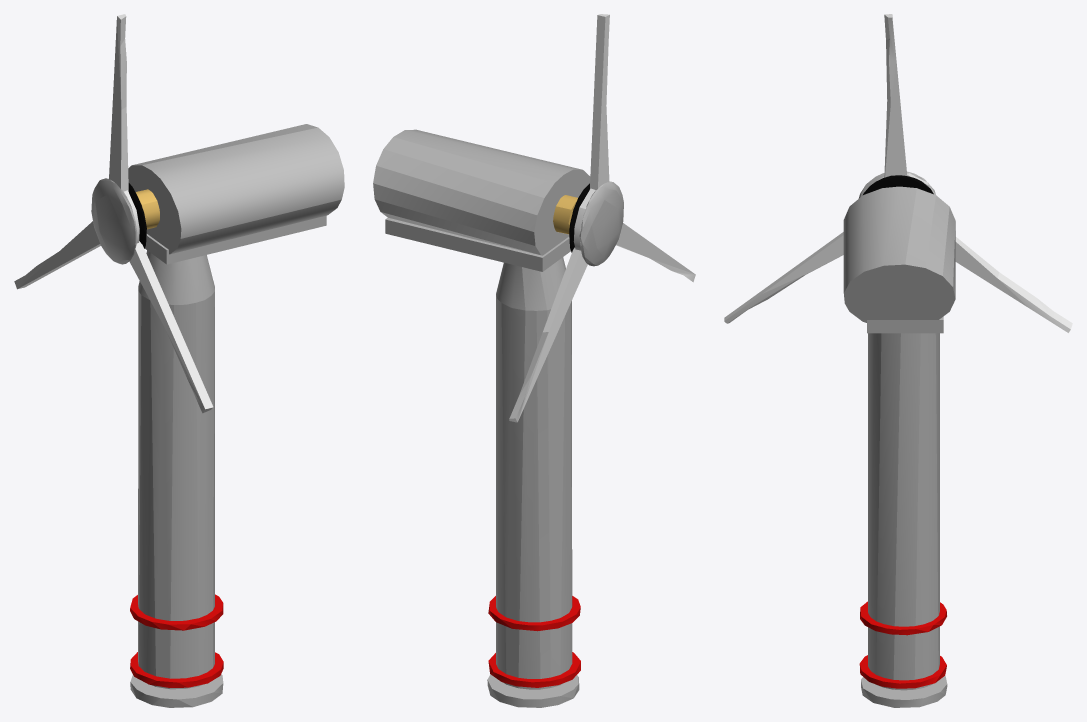
File: windmill.fbx
3 views of the same model, side by side, from view 1: azimuth 30°, elevation 25°; view 2: azimuth 150°, elevation 25°; view 3: azimuth 270°, elevation 25° (orthographic). The views are drawn at different scales.
Parts seen in each view (by area): view 1: Cube.002; view 2: Cube.002; view 3: Cube.002.
Part boxes in pixels (x1=…): Cube.002: x1=14, y1=14, x2=344, y2=707; Cube.002: x1=373, y1=14, x2=695, y2=707; Cube.002: x1=724, y1=14, x2=1072, y2=707.
Size of the model in its own units: 64.39 by 199 by 97.57.
